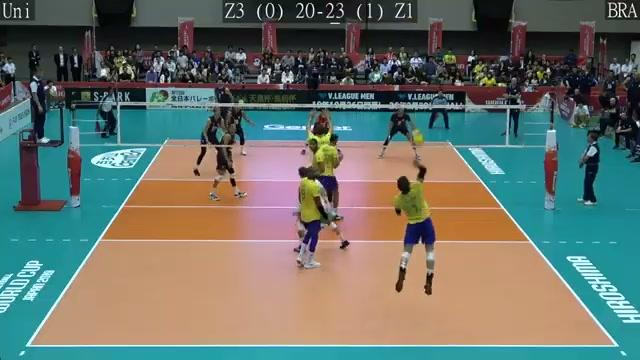ball: (406, 129, 423, 147)
